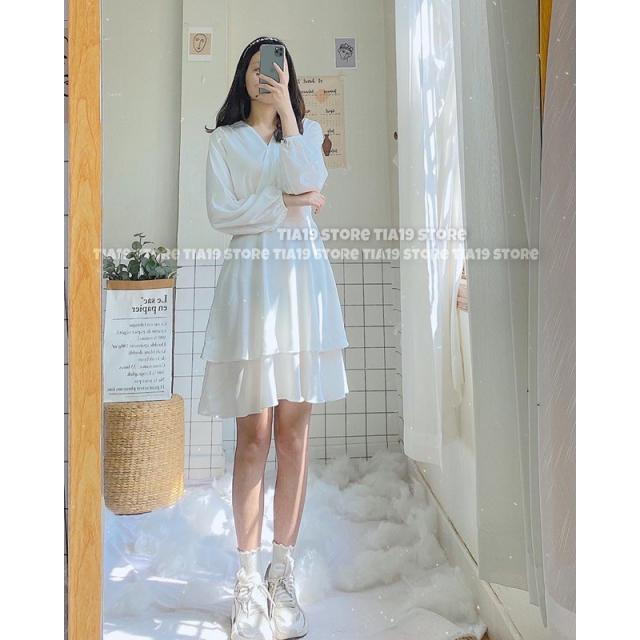clothes: (202, 119, 354, 412)
